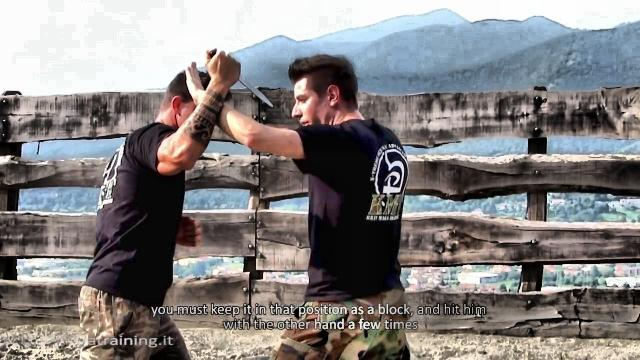knife: (204, 45, 276, 111)
